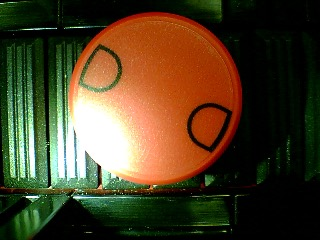MIPO2: (67, 12, 243, 185)
